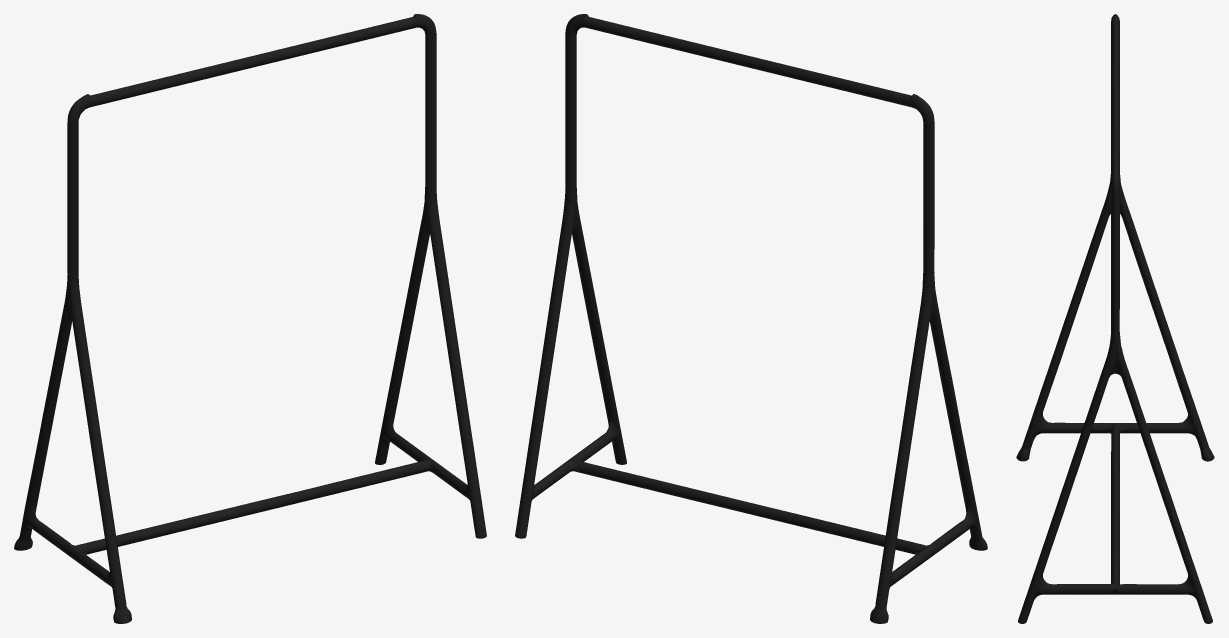
File: 06 - TURBO - 吊衣桿, 室內戶外用黑色, 117x59 公分 IKEA 線上購物.glb
3 renders of one model, left to right at view 1: azimuth 30°, elevation 25°; view 2: azimuth 150°, elevation 25°; view 3: azimuth 270°, elevation 25°, orthographic. The views are drawn at different scales.
Parts seen in each view (by area): view 1: model; view 2: model; view 3: model.
Boxes of the visible parts, x1,y1,x2,y2 form: model: [14, 14, 486, 623]; model: [515, 14, 987, 623]; model: [1016, 14, 1214, 623].
Bounding box in the file's own units: 1.18 × 1.48 × 0.5874.
Materials: 1 (1 with a texture image).
